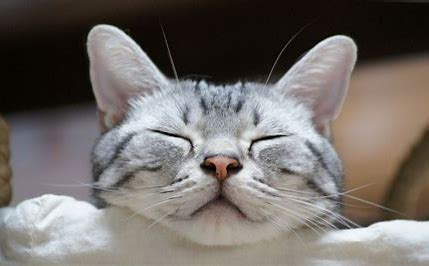cat: (71, 21, 378, 233)
